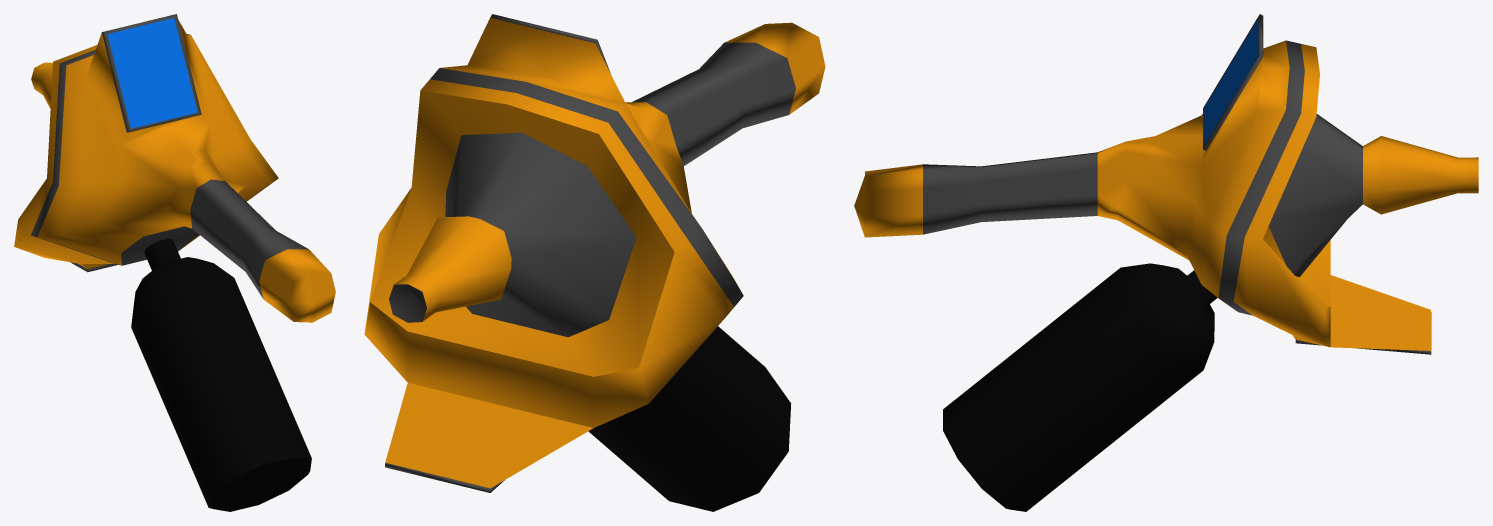
Rendered from GemSucker.fbx.
3 views of the same model, side by side, from view 1: azimuth 30°, elevation 25°; view 2: azimuth 150°, elevation 25°; view 3: azimuth 270°, elevation 25° (orthographic). The views are drawn at different scales.
Visible parts, largest first — view 1: pCylinder2; view 2: pCylinder2; view 3: pCylinder2.
Boxes of the visible parts, x1,y1,x2,y2 form: pCylinder2: (14,14,335,511); pCylinder2: (364,14,825,511); pCylinder2: (854,14,1478,511).
Bounding box in the file's own units: 17.16 × 27.82 × 33.59.
